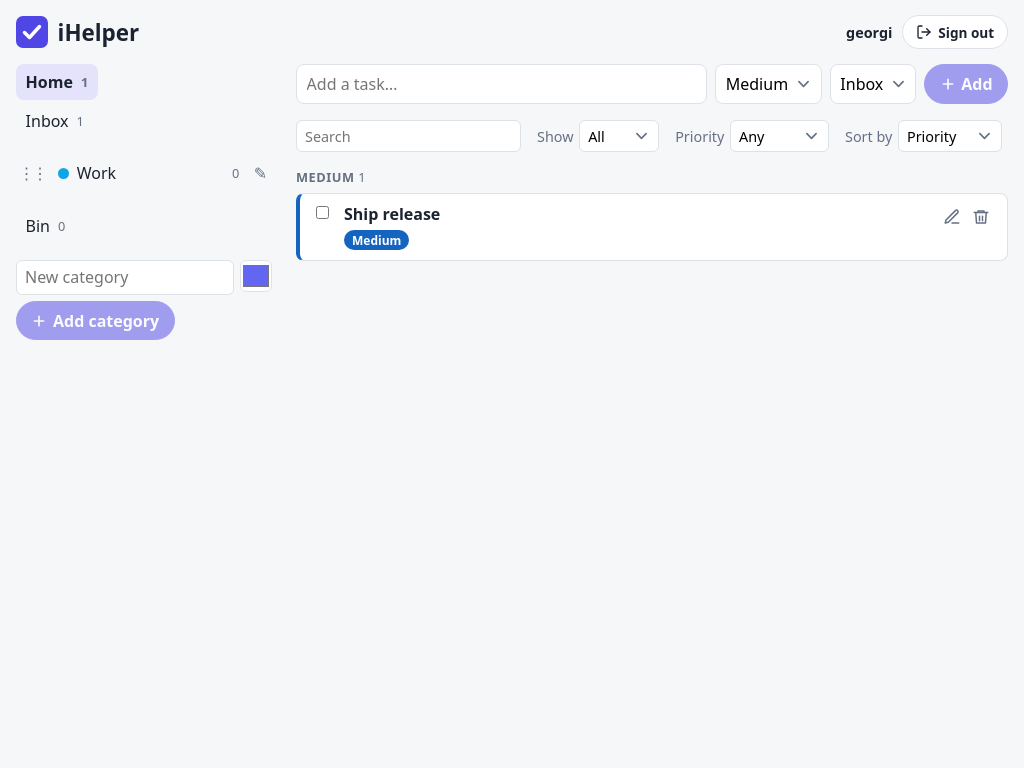
it: AuthGate › falls back to the sign-in form when the session cannot be refreshed
Expected: the button "Ship release" is shown, x1=344 y1=203 x2=440 y2=225
Select "Done" in the dropdown labelled "Show" at (619, 136), box x1=579 y1=120 x2=659 y2=152
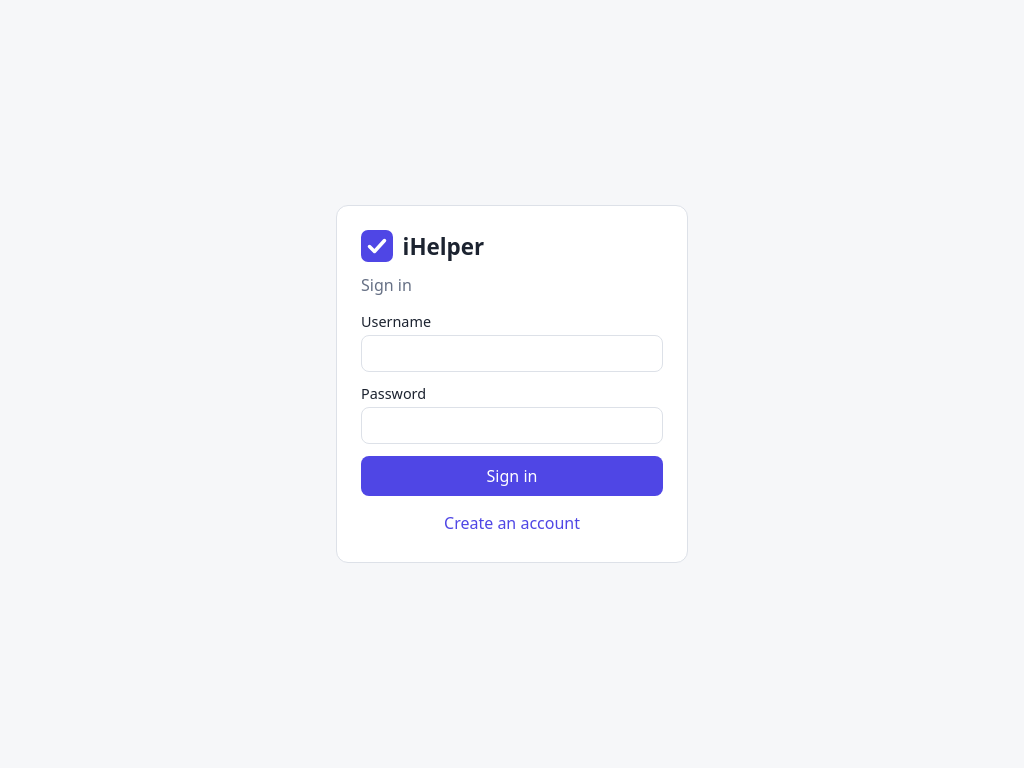
Expected: the heading "Sign in" is shown, x1=361 y1=274 x2=412 y2=296
